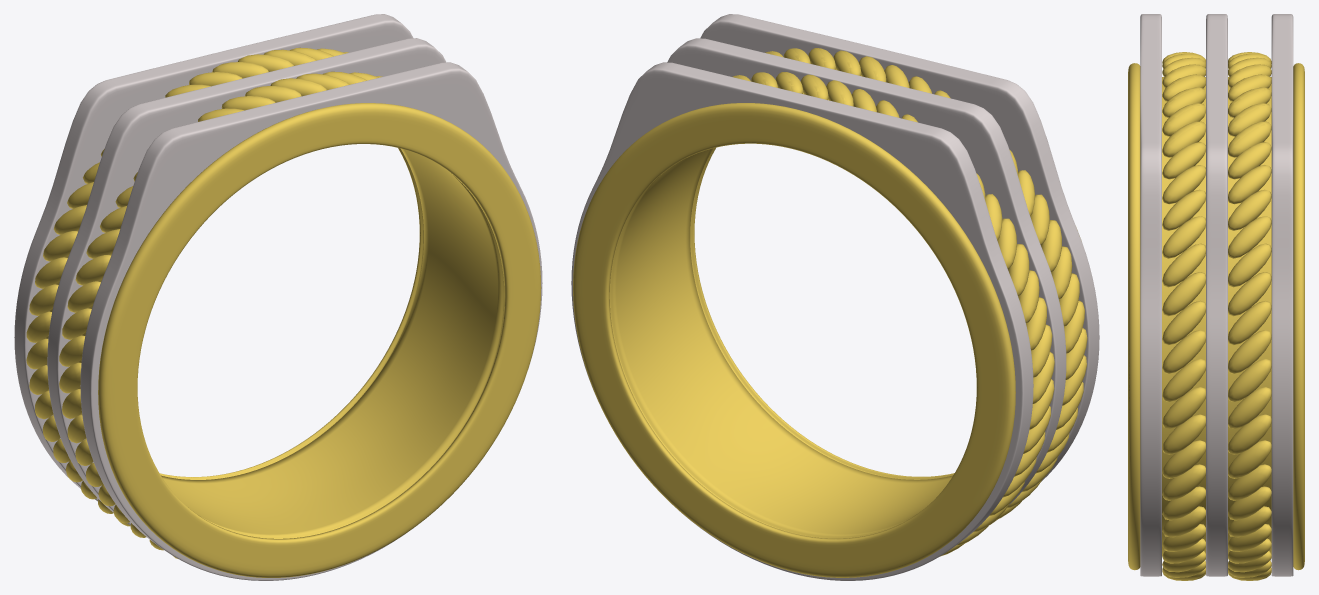
3 renders of one model, left to right at view 1: azimuth 30°, elevation 25°; view 2: azimuth 150°, elevation 25°; view 3: azimuth 270°, elevation 25°, orthographic.
Visible parts, largest first — view 1: Cylinder; view 2: Cylinder; view 3: Cylinder.
Part boxes in pixels (x1=…): Cylinder: x1=14, y1=14, x2=542, y2=580; Cylinder: x1=571, y1=14, x2=1099, y2=580; Cylinder: x1=1128, y1=14, x2=1304, y2=580.
Size of the model in its own units: 2.2 by 2.2 by 0.734.
